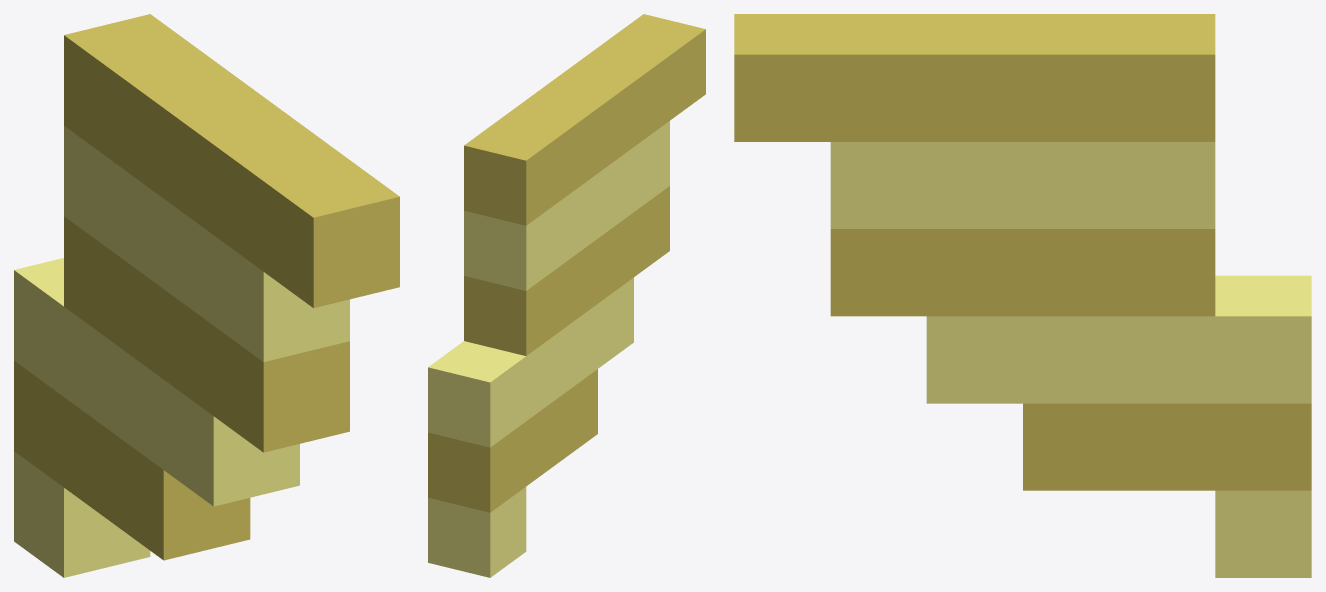
The model's file is YellowHouseParts-6.obj.
The picture shows the model from 3 angles, left to right: view 1: azimuth 30°, elevation 25°; view 2: azimuth 150°, elevation 25°; view 3: azimuth 270°, elevation 25°; orthographic projection. The views are drawn at different scales.
Bounding box in the file's own units: 0.1 × 0.6 × 0.6.
1 material, 1 textured.
